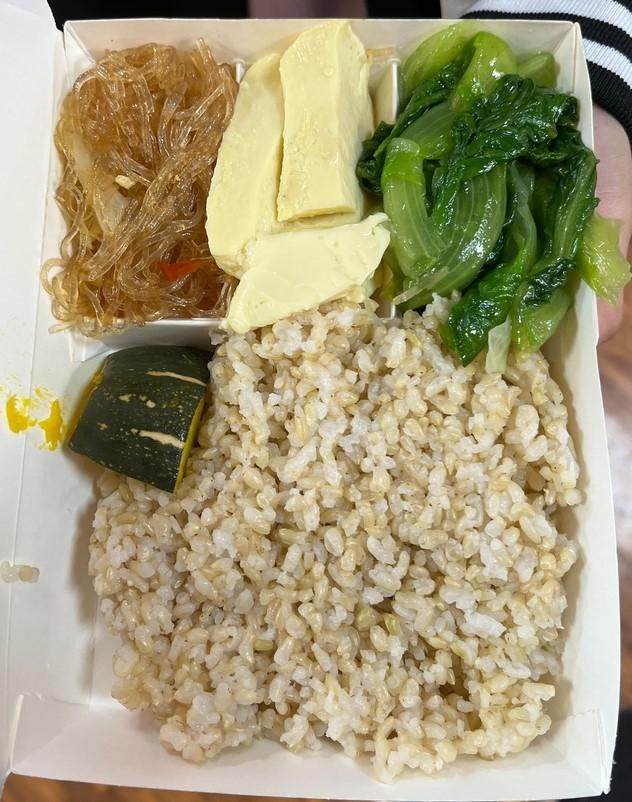big grilled chicken leg: (18, 15, 631, 802)
box: (83, 317, 575, 762)
braised fish fillet: (371, 24, 600, 347), (199, 14, 392, 321), (44, 39, 237, 319), (56, 335, 217, 493)
